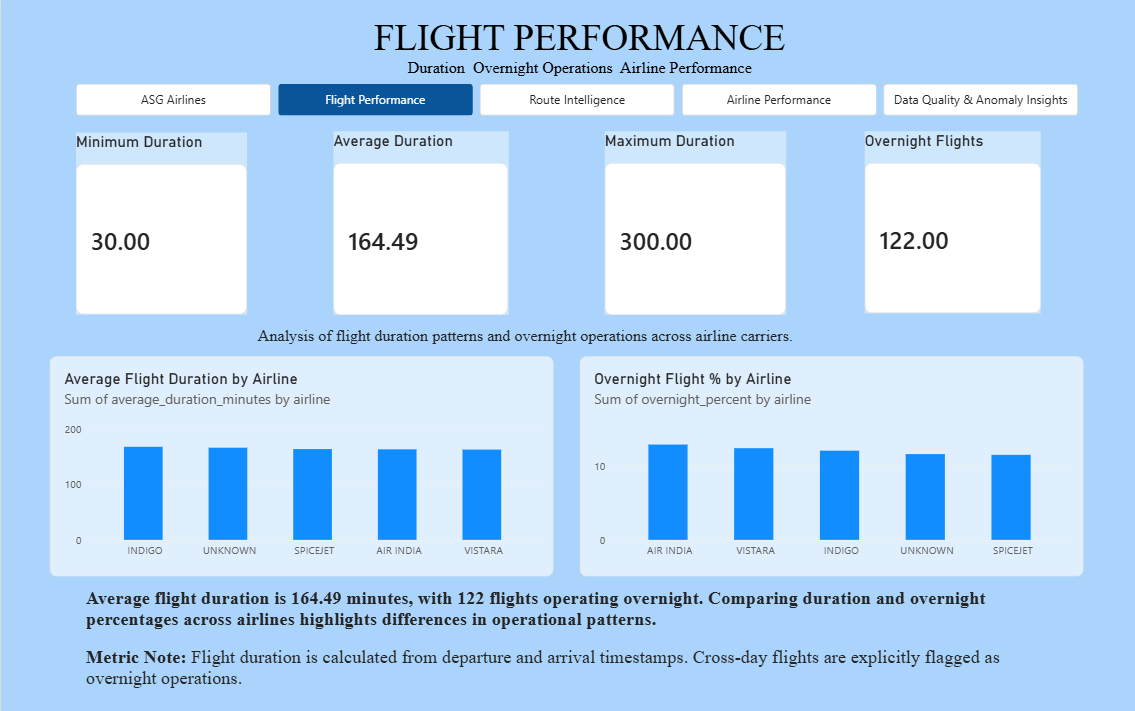

Layout of this report page (visuals, bound fields, positions):
{"tool":"powerbi","page":{"name":"Flight Performance","canvas":[1920,1080],"ordinal":1},"visuals":[{"type":"textbox","box":[10.1,0,1321.7,113],"z":0},{"type":"cardVisual","title":"Average Duration","fields":{"Data":["Sum(flight_kpis.value)"]},"box":[385.5,152.2,202.9,213],"z":1000},{"type":"cardVisual","title":"Minimum Duration","fields":{"Data":["Sum(flight_kpis.value)"]},"box":[87,153.6,198.6,211.6],"z":2000},{"type":"cardVisual","title":"Overnight Flights","fields":{"Data":["Sum(flight_kpis.value)"]},"box":[1001.4,152.2,204.3,211.6],"z":3000},{"type":"cardVisual","title":"Maximum Duration","fields":{"Data":["Sum(flight_kpis.value)"]},"box":[700,152.2,210.1,213],"z":4000},{"type":"clusteredColumnChart","title":"Average Flight Duration by Airline","fields":{"Category":["airline_kpis.airline"],"Y":["Sum(airline_kpis.average_duration_minutes)"]},"box":[56.5,413,584.1,255.1],"z":5000},{"type":"clusteredColumnChart","title":"Overnight Flight % by Airline","fields":{"Category":["airline_kpis.airline"],"Y":["Sum(airline_kpis.overnight_percent)"]},"box":[671,413,584.1,255.1],"z":6000},{"type":"textbox","box":[137.7,378.3,940.6,58],"z":7000},{"type":"textbox","box":[98.6,681.2,1133.3,165.2],"z":8000},{"type":"pageNavigator","box":[87,97.1,1165.2,37.7],"z":9000}]}

Visuals, with their boxes on the page's 1920x1080 design canvas (x1, y1, x2, y2). These are canvas units, not pixel positions in the 1135x711 screenshot, which may show the page scaled, cropped or inside an application window:
textbox: x1=10, y1=0, x2=1332, y2=113
"Average Duration" cardVisual: x1=386, y1=152, x2=588, y2=365
"Minimum Duration" cardVisual: x1=87, y1=154, x2=286, y2=365
"Overnight Flights" cardVisual: x1=1001, y1=152, x2=1206, y2=364
"Maximum Duration" cardVisual: x1=700, y1=152, x2=910, y2=365
"Average Flight Duration by Airline" clusteredColumnChart: x1=56, y1=413, x2=641, y2=668
"Overnight Flight % by Airline" clusteredColumnChart: x1=671, y1=413, x2=1255, y2=668
textbox: x1=138, y1=378, x2=1078, y2=436
textbox: x1=99, y1=681, x2=1232, y2=846
pageNavigator: x1=87, y1=97, x2=1252, y2=135
